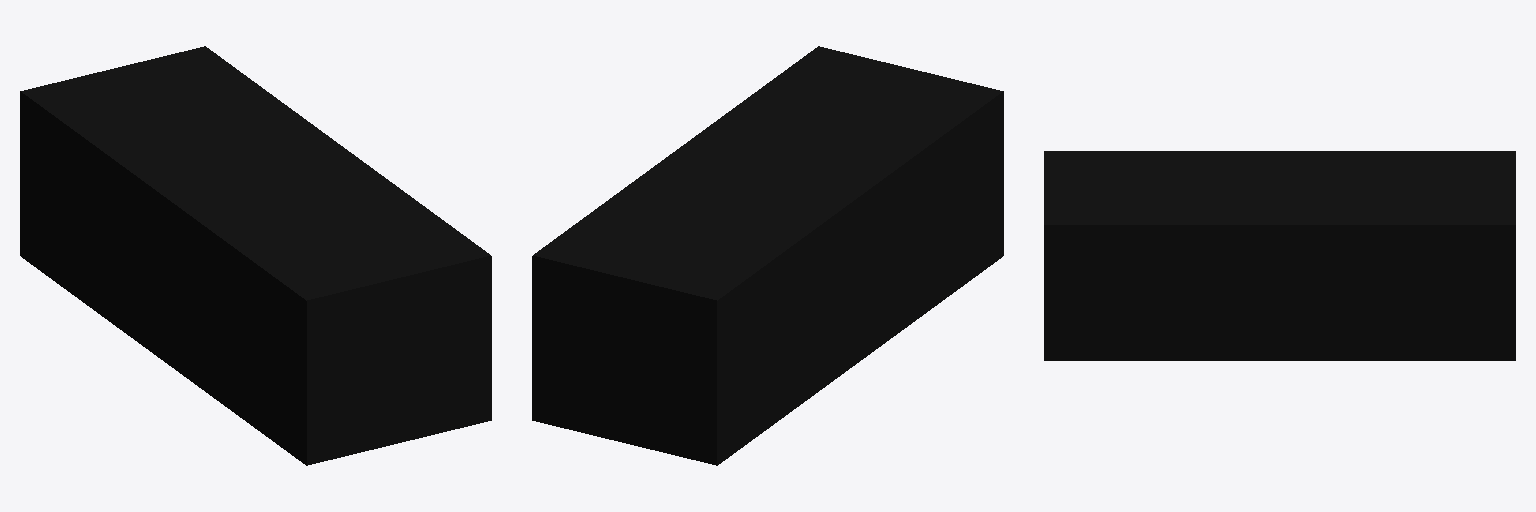
robot.urdf — deimos:
<?xml version="1.0" ?>
<!-- =================================================================================== -->
<!-- |    This document was autogenerated by xacro from deimos_scene.urdf.xacro        | -->
<!-- |    EDITING THIS FILE BY HAND IS NOT RECOMMENDED                                 | -->
<!-- =================================================================================== -->
<!--
Copyright (c) 2019, I3D Robotics Ltd.
-->
<robot name="deimos" xmlns:xacro="http://ros.org/wiki/xacro">
  <link name="deimos_cameraLeft_optical"/>
  <link name="deimos_cameraRight_optical"/>
  <link name="deimos_cameraLeft"/>
  <link name="deimos_cameraRight"/>
  <link name="deimos_base_link"/>
  <link name="deimos_center">
    <visual>
      <origin rpy="0 0 0" xyz="0 0 0"/>
      <geometry>
        <box size="0.038 0.10175 0.03242"/>
      </geometry>
      <material name="deimos_camera_colour">
        <color rgba="0.1 0.1 0.1 1"/>
      </material>
    </visual>
  </link>
  <joint name="deimos_right_camera_joint" type="fixed">
    <parent link="deimos_center"/>
    <child link="deimos_cameraRight"/>
    <origin rpy="0 0 0" xyz="0 -0.03 0"/>
  </joint>
  <joint name="deimos_left_camera_joint" type="fixed">
    <parent link="deimos_center"/>
    <child link="deimos_cameraLeft"/>
    <origin rpy="0 0 0" xyz="0 0.03 0"/>
  </joint>
  <joint name="deimos_left_optical_joint" type="fixed">
    <parent link="deimos_cameraLeft"/>
    <child link="deimos_cameraLeft_optical"/>
    <!-- Correct for the optical frame orientation -->
    <origin rpy="-1.57079632679 0 -1.57079632679" xyz="0 0 0"/>
  </joint>
  <joint name="deimos_right_optical_joint" type="fixed">
    <parent link="deimos_cameraRight"/>
    <child link="deimos_cameraRight_optical"/>
    <!-- Correct for the optical frame orientation -->
    <origin rpy="-1.57079632679 0 -1.57079632679" xyz="0 0 0"/>
  </joint>
  <sensor name="deimos_right_camera_sensor" update_rate="60">
    <parent link="deimos_cameraRight_optical"/>
    <origin rpy="0 0 0" xyz="0 0 0"/>
    <camera>
      <image far="100" format="MONO8" height="480" hfov="1.04" near="0.3" width="752"/>
    </camera>
  </sensor>
  <joint name="deimos_mount_center_joint" type="fixed">
    <parent link="deimos_base_link"/>
    <child link="deimos_center"/>
    <origin rpy="0 0 0" xyz="0 -0.015 0.01621"/>
  </joint>
</robot>

--- Facts derived from the render (not from the file) ---
The picture shows the robot from 3 angles, left to right: view 1: azimuth 30°, elevation 25°; view 2: azimuth 150°, elevation 25°; view 3: azimuth 270°, elevation 25°; orthographic projection.
Robot: deimos — 6 links, 5 joints (5 fixed); root link deimos_base_link; default pose: every joint at zero.
Visible links, largest first — view 1: deimos_center; view 2: deimos_center; view 3: deimos_center.
Link boxes in pixels (left/top/right/bottom): deimos_center: left=20, top=46, right=491, bottom=465; deimos_center: left=532, top=46, right=1003, bottom=465; deimos_center: left=1044, top=151, right=1515, bottom=360.
Bounding box of the posed robot: 0.038 × 0.1018 × 0.0324 m (x, y, z).
Geometry: primitives only (box / cylinder / sphere), no mesh files.